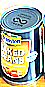beans: (1, 5, 42, 85)
